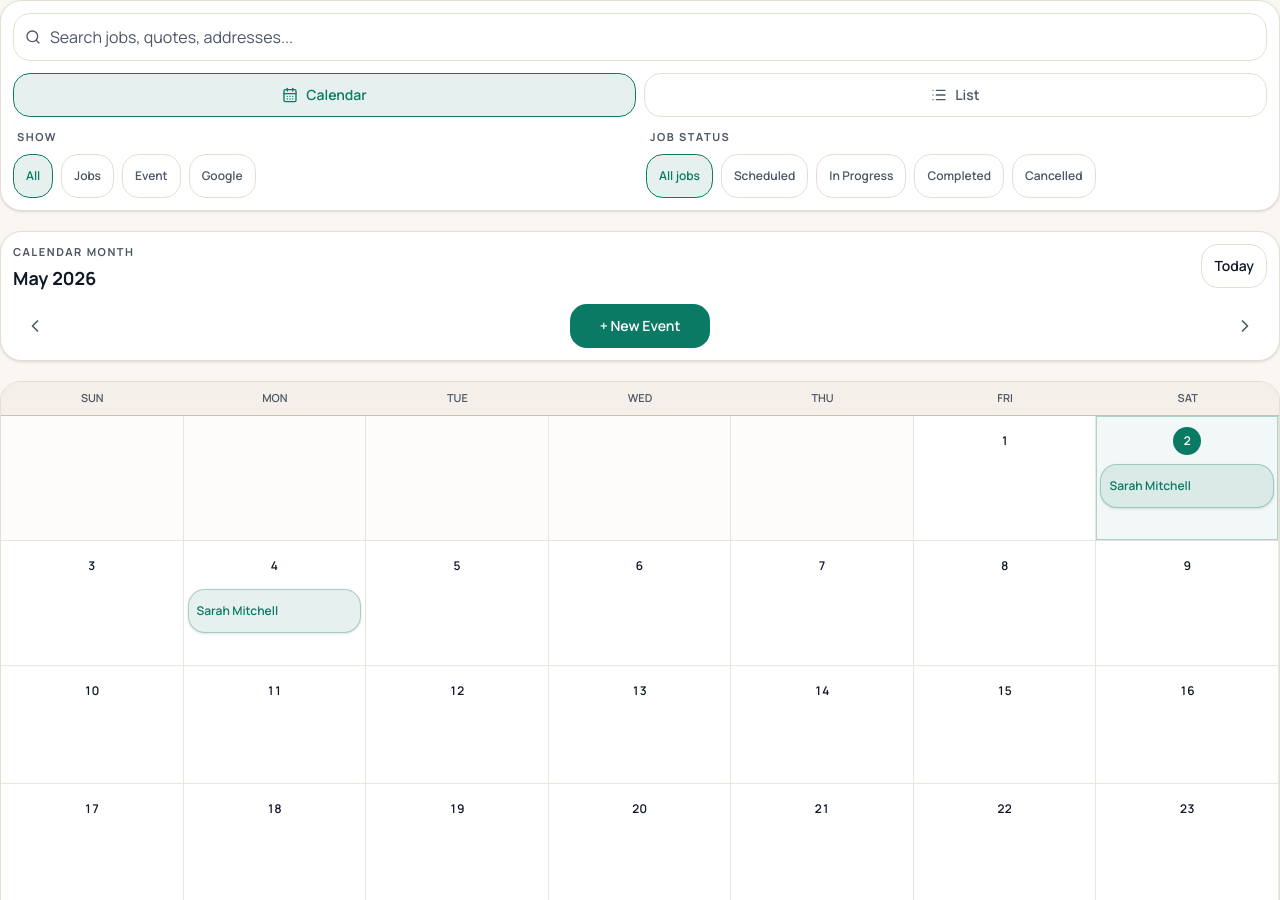
Test: ScheduleCalendar › shows a success toast after deleting a scheduled day
Click the button "List".
click(956, 95)  # box [644,73,1267,117]
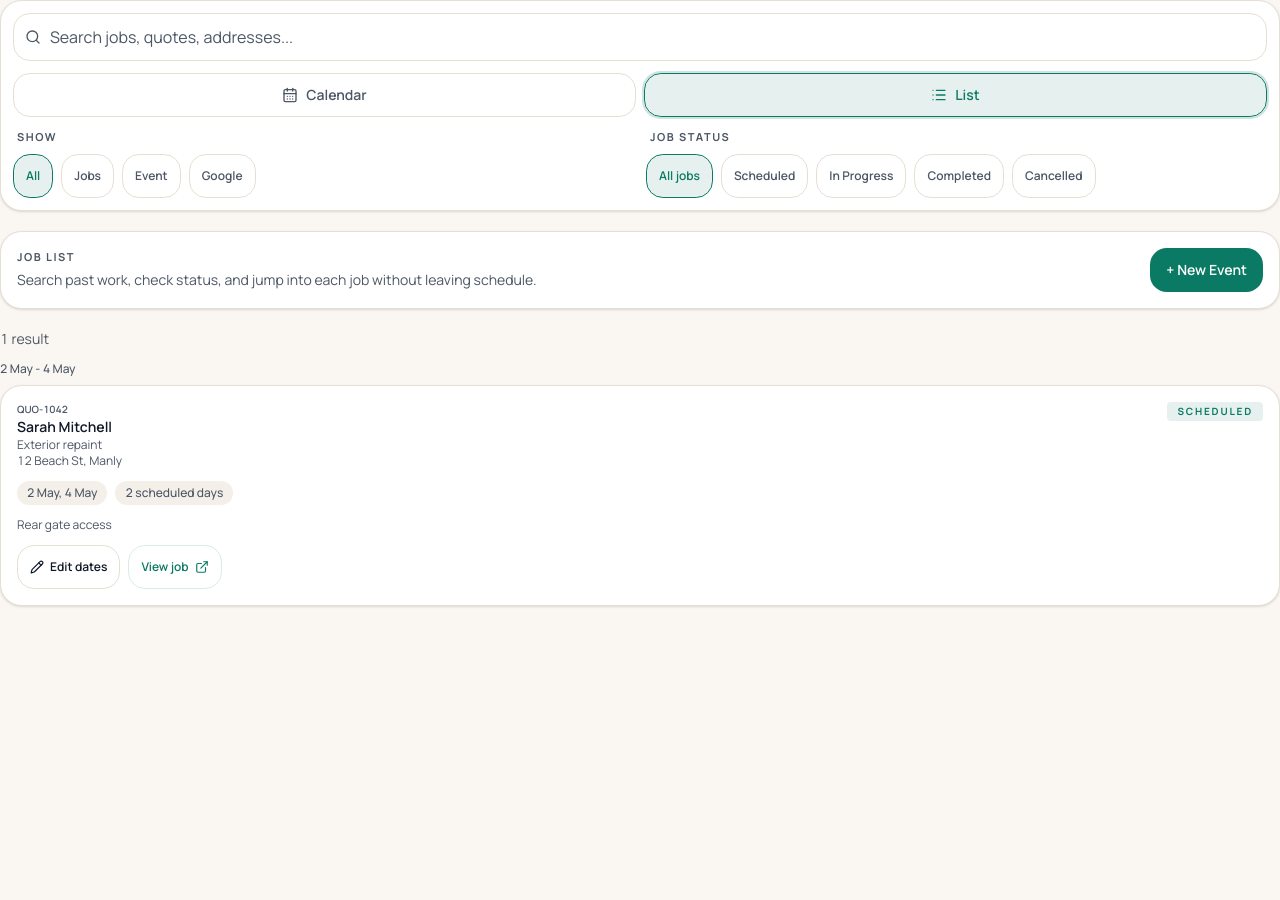
Click the button "Edit dates".
click(69, 566)  # box [17,544,120,588]
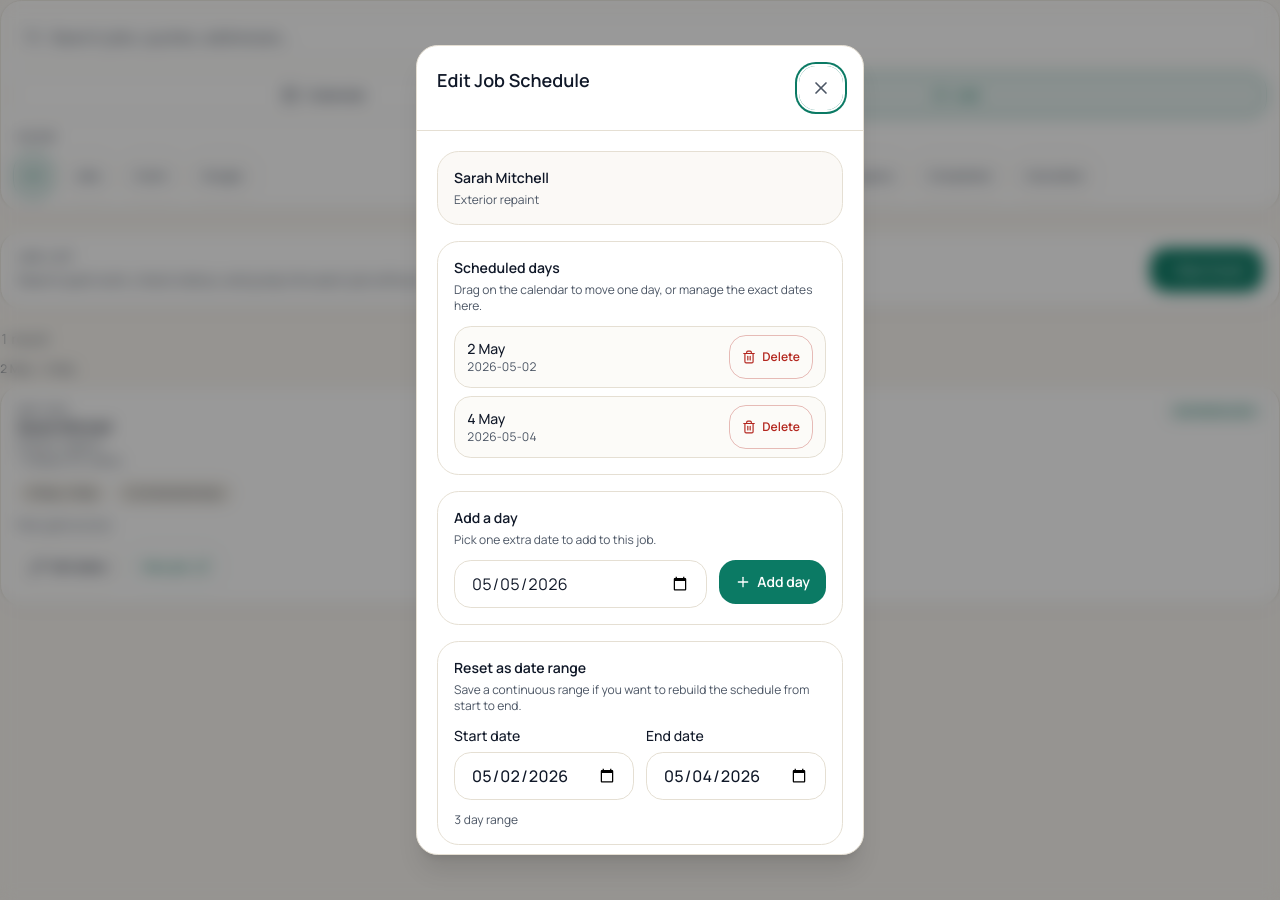
Click the button "Delete" in the row of "2026-05-02".
click(771, 357)  # box [729,335,813,379]
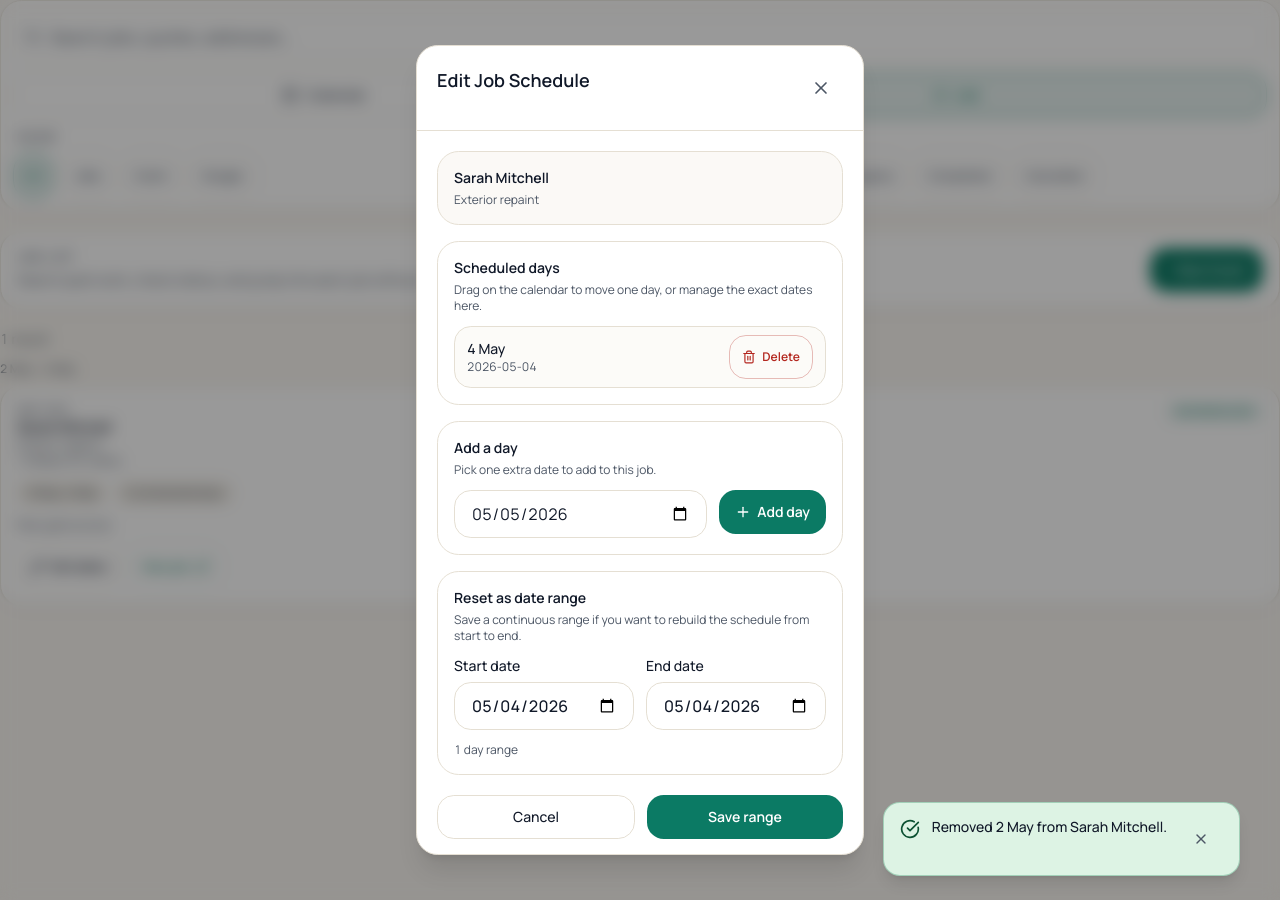
Expected: the text "Removed 2 May from Sarah Mitchell." is shown, [932,817,1167,837]
